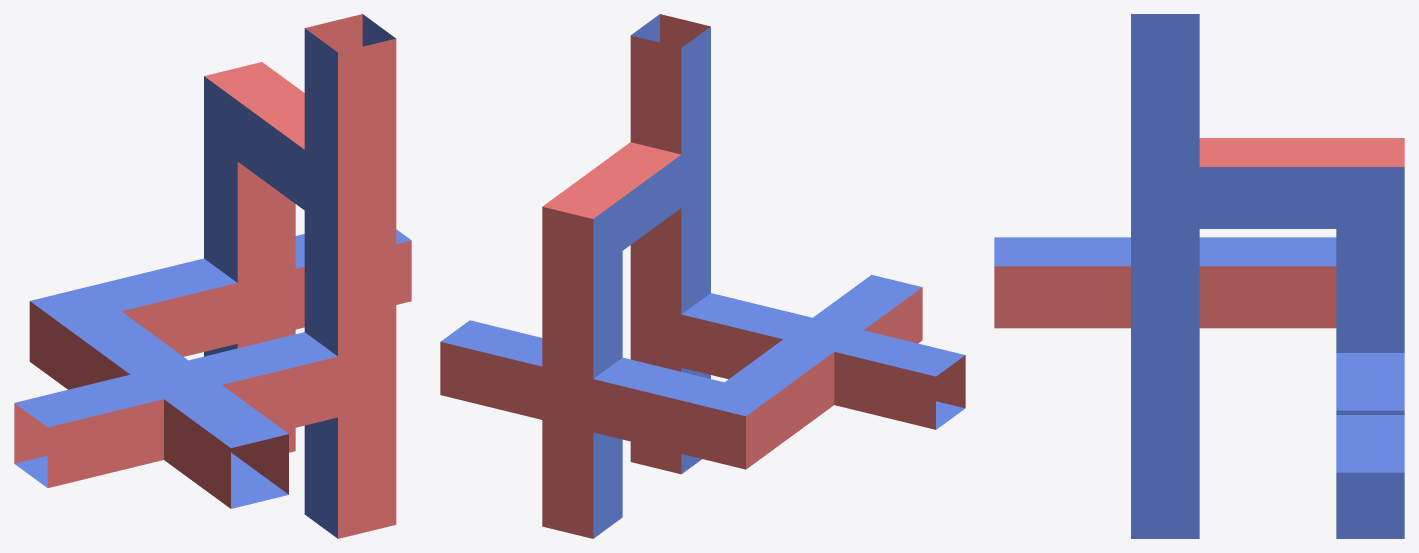
File: three_cnots.dae
The picture shows the model from 3 angles, left to right: view 1: azimuth 30°, elevation 25°; view 2: azimuth 150°, elevation 25°; view 3: azimuth 270°, elevation 25°; orthographic projection. The views are drawn at different scales.
Visible parts, largest first — view 1: ZXO (×11), OXZ (×9), XOZ (×6), ZXX (×4), ZXZ (×2), ZOX (×2), XXZ (×3); view 2: ZXO (×10), OXZ (×9), XOZ (×4), ZXX (×4), XXZ (×4), ZOX (×2), ZXZ (×2); view 3: ZXO (×6), XOZ (×4), ZOX (×2), ZXX (×3), OXZ (×2), ZXZ.
Part boxes in pixels (x1,y1,x2,y2): ZXO (×11): (204, 14, 396, 538); OXZ (×9): (14, 240, 411, 487); XOZ (×6): (63, 311, 288, 508); ZXX (×4): (204, 62, 396, 234); ZXZ (×2): (237, 269, 396, 417); ZOX (×2): (237, 86, 304, 210); XXZ (×3): (29, 287, 221, 398); ZXO (×10): (542, 14, 710, 538); OXZ (×9): (440, 293, 965, 456); XOZ (×4): (725, 274, 922, 447); ZXX (×4): (542, 133, 710, 272); XXZ (×4): (695, 318, 863, 469); ZOX (×2): (572, 142, 681, 250); ZXZ (×2): (542, 302, 681, 432); ZXO (×6): (1131, 14, 1404, 538); XOZ (×4): (994, 237, 1336, 328); ZOX (×2): (1199, 138, 1336, 228); ZXX (×3): (1131, 138, 1404, 228); OXZ (×2): (1336, 353, 1404, 472); ZXZ: (1131, 353, 1199, 414).
Size of the model in its own units: 8 by 6 by 8.
